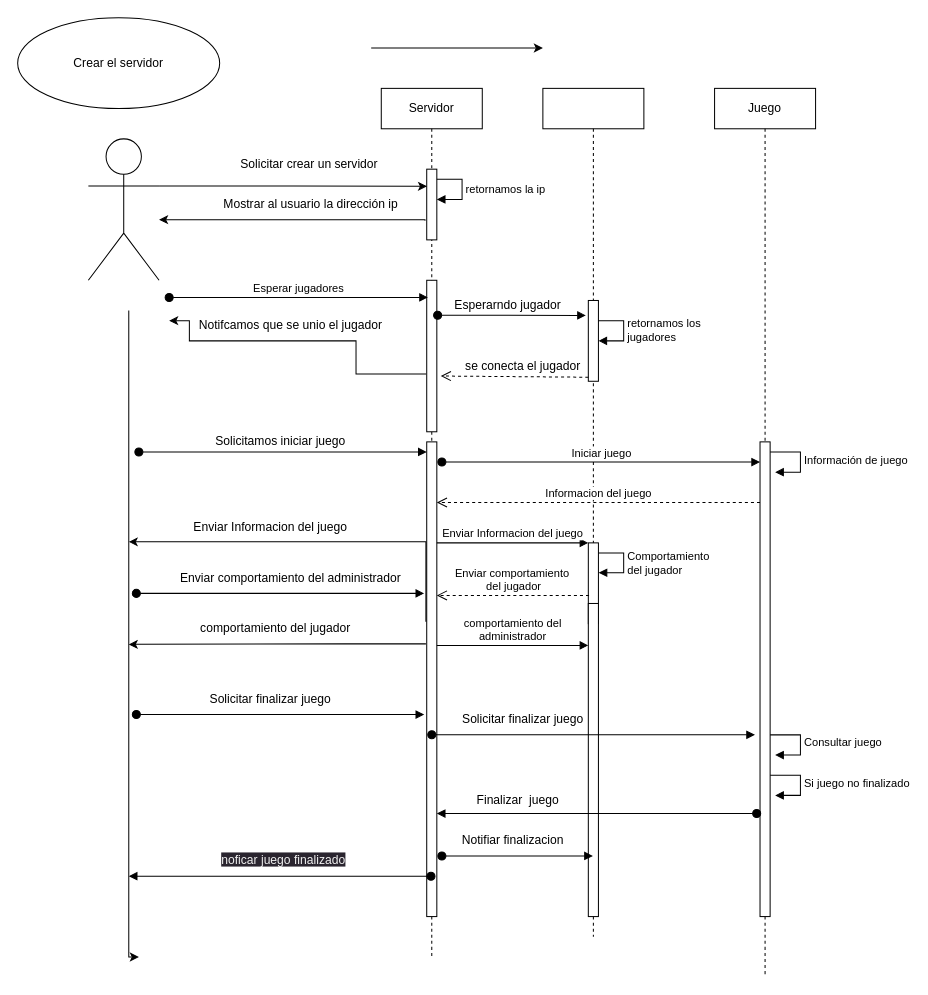
The diagram is 928 pixels wide and 995 high, and some of its shapes have lost their labels. Each missing label, with the centre of its shape:
Administrador: [123,209]
Jugador: [593,512]
